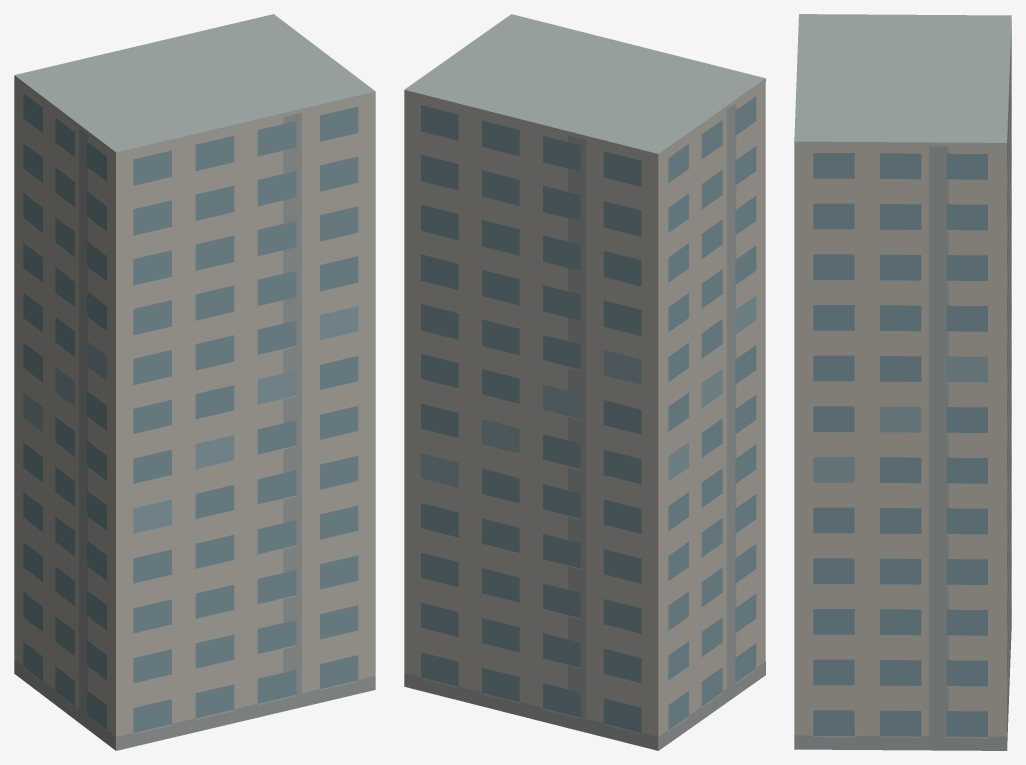
The model's file is residential-99fed038-047a-4a86-b77b-bf43b720056d.glb.
The picture shows the model from 3 angles, left to right: view 1: azimuth 30°, elevation 25°; view 2: azimuth 150°, elevation 25°; view 3: azimuth 270°, elevation 25°; orthographic projection.
Parts seen in each view (by area): view 1: residential-99fed038-047a-4a86-b77b-bf43b720056d.tmp; view 2: residential-99fed038-047a-4a86-b77b-bf43b720056d.tmp; view 3: residential-99fed038-047a-4a86-b77b-bf43b720056d.tmp.
Part boxes in pixels (x1=…): residential-99fed038-047a-4a86-b77b-bf43b720056d.tmp: x1=14, y1=14, x2=375, y2=750; residential-99fed038-047a-4a86-b77b-bf43b720056d.tmp: x1=404, y1=14, x2=765, y2=750; residential-99fed038-047a-4a86-b77b-bf43b720056d.tmp: x1=794, y1=14, x2=1011, y2=750.
Size of the model in its own units: 16.84 by 37 by 12.
